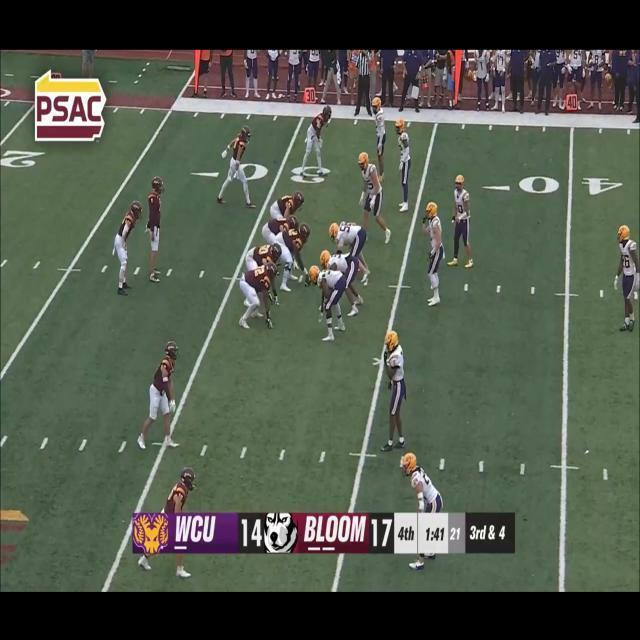football: (300, 266, 314, 292)
